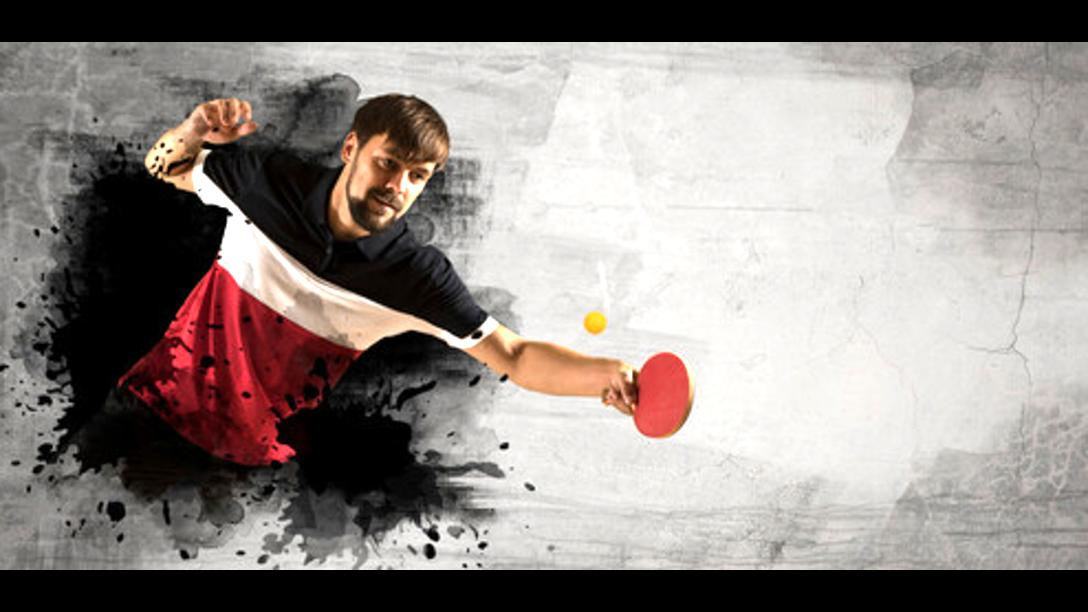Table-Tennis-Ball: (584, 312, 606, 334)
